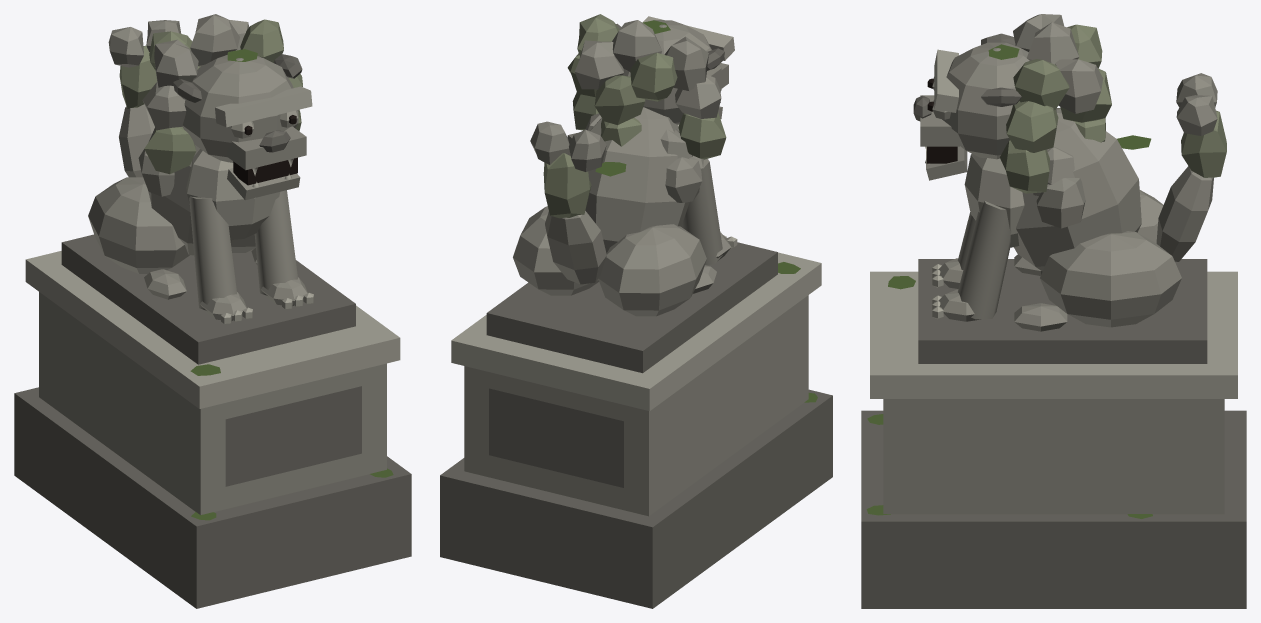
Rendered from komainu.glb.
The picture shows the model from 3 angles, left to right: view 1: azimuth 30°, elevation 25°; view 2: azimuth 150°, elevation 25°; view 3: azimuth 270°, elevation 25°; orthographic projection. The views are drawn at different scales.
Parts seen in each view (by area): view 1: pedestal, komainu; view 2: pedestal, komainu; view 3: pedestal, komainu.
Part boxes in pixels (bbox=[...]): pedestal: bbox=[14, 251, 411, 608]; komainu: bbox=[61, 14, 355, 364]; pedestal: bbox=[440, 252, 832, 608]; komainu: bbox=[486, 14, 777, 373]; pedestal: bbox=[861, 271, 1246, 608]; komainu: bbox=[913, 14, 1226, 363].
Bounding box in the file's own units: 0.6 × 1.34 × 0.88.
